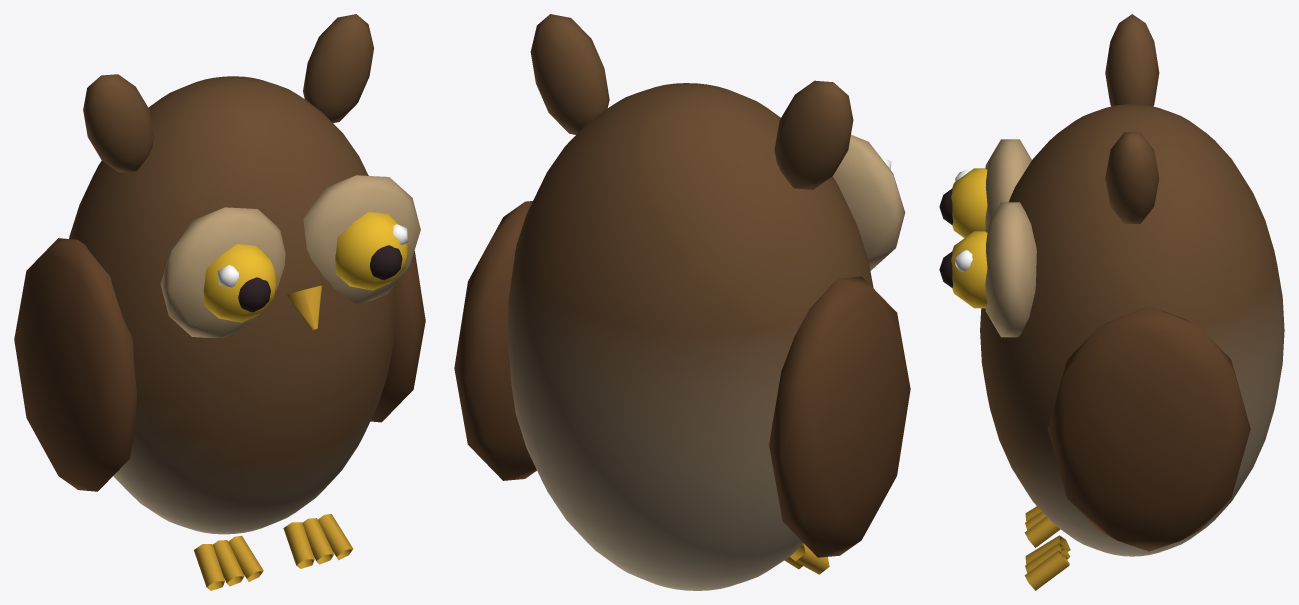
File: critter_owl.glb
3 views of the same model, side by side, from view 1: azimuth 30°, elevation 25°; view 2: azimuth 150°, elevation 25°; view 3: azimuth 270°, elevation 25° (orthographic). The views are drawn at different scales.
Parts seen in each view (by area): view 1: owl_body, owl_eye_r, owl_eye_l; view 2: owl_body; view 3: owl_body, owl_eye_r, owl_eye_l.
Boxes of the visible parts, left/top/right/bottom form: owl_body: left=14, top=14, right=425, bottom=590; owl_eye_r: left=335, top=212, right=408, bottom=290; owl_eye_l: left=203, top=244, right=277, bottom=322; owl_body: left=454, top=14, right=910, bottom=590; owl_body: left=980, top=14, right=1284, bottom=590; owl_eye_r: left=939, top=231, right=987, bottom=308; owl_eye_l: left=939, top=168, right=987, bottom=237.
Size of the model in its own units: 0.2376 by 0.3159 by 0.204.
